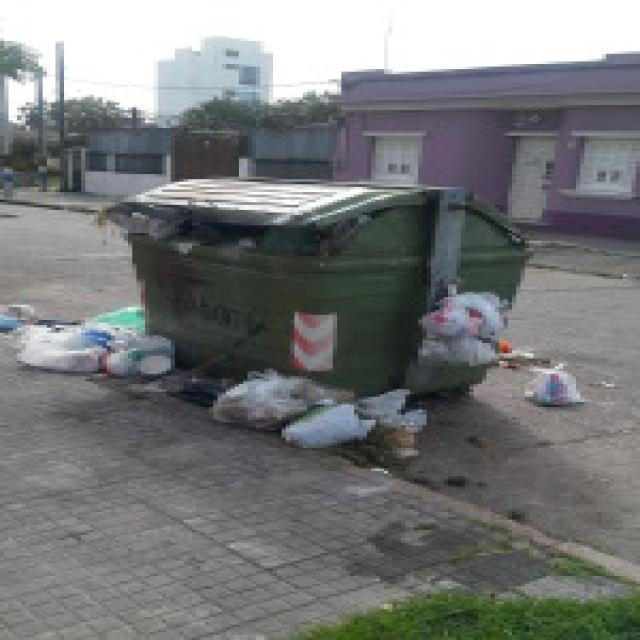garbage: (205, 371, 422, 443), (4, 304, 158, 374), (406, 282, 500, 366), (512, 353, 580, 407)
